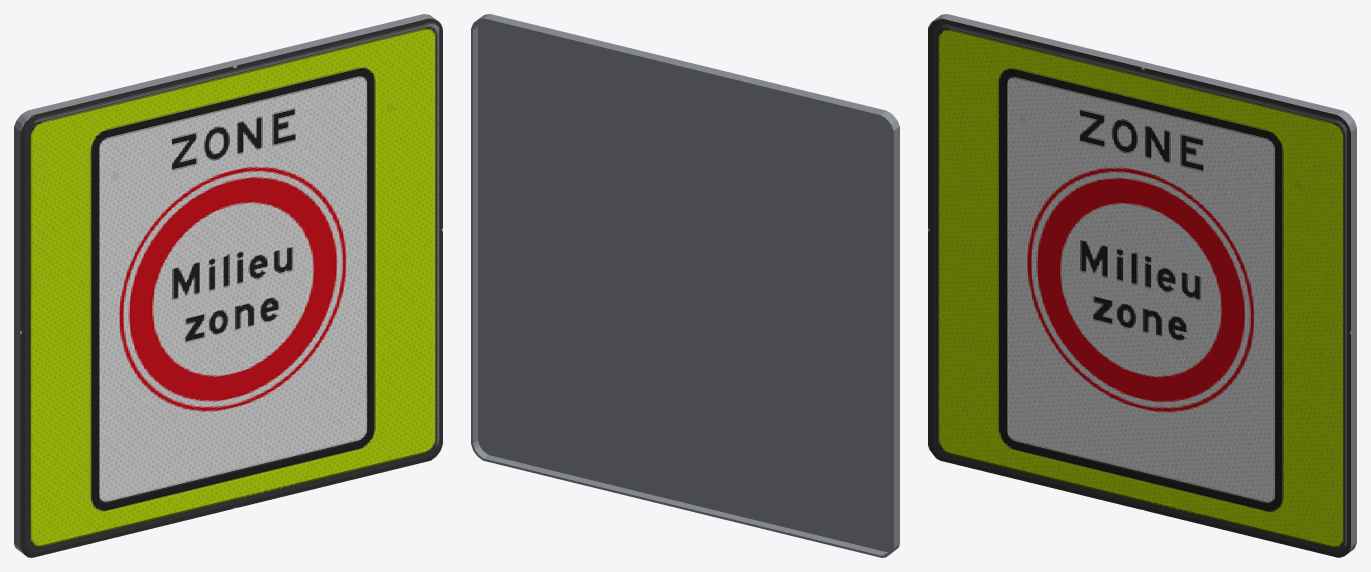
3 views of the same model, side by side, from view 1: azimuth 30°, elevation 25°; view 2: azimuth 150°, elevation 25°; view 3: azimuth 330°, elevation 25° (orthographic).
Parts seen in each view (by area): view 1: cat_d4b231285d86020e; view 2: cat_d4b231285d86020e; view 3: cat_d4b231285d86020e.
Boxes of the visible parts, x1,y1,x2,y2 form: cat_d4b231285d86020e: (14, 14, 442, 557); cat_d4b231285d86020e: (471, 14, 899, 557); cat_d4b231285d86020e: (928, 14, 1356, 557).
Size of the model in its own units: 0.6 by 0.015 by 0.6.
Materials: 2 (1 with a texture image).
